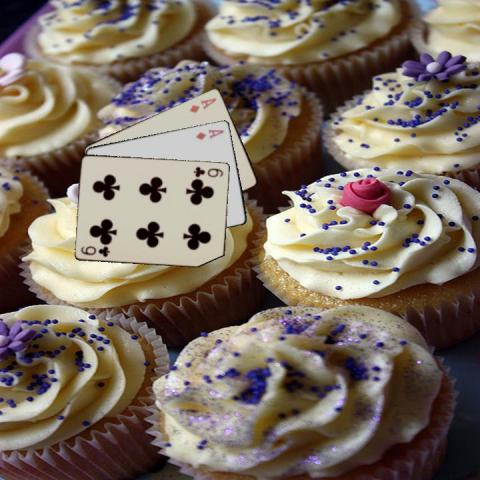6c: (191, 163, 224, 179), (78, 243, 111, 258)
Ad: (186, 95, 218, 114), (194, 126, 226, 141)
